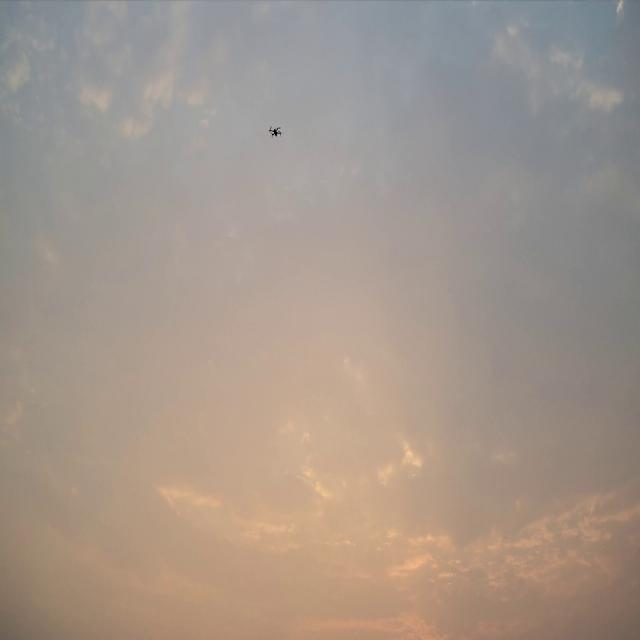drone: (269, 125, 283, 138)
